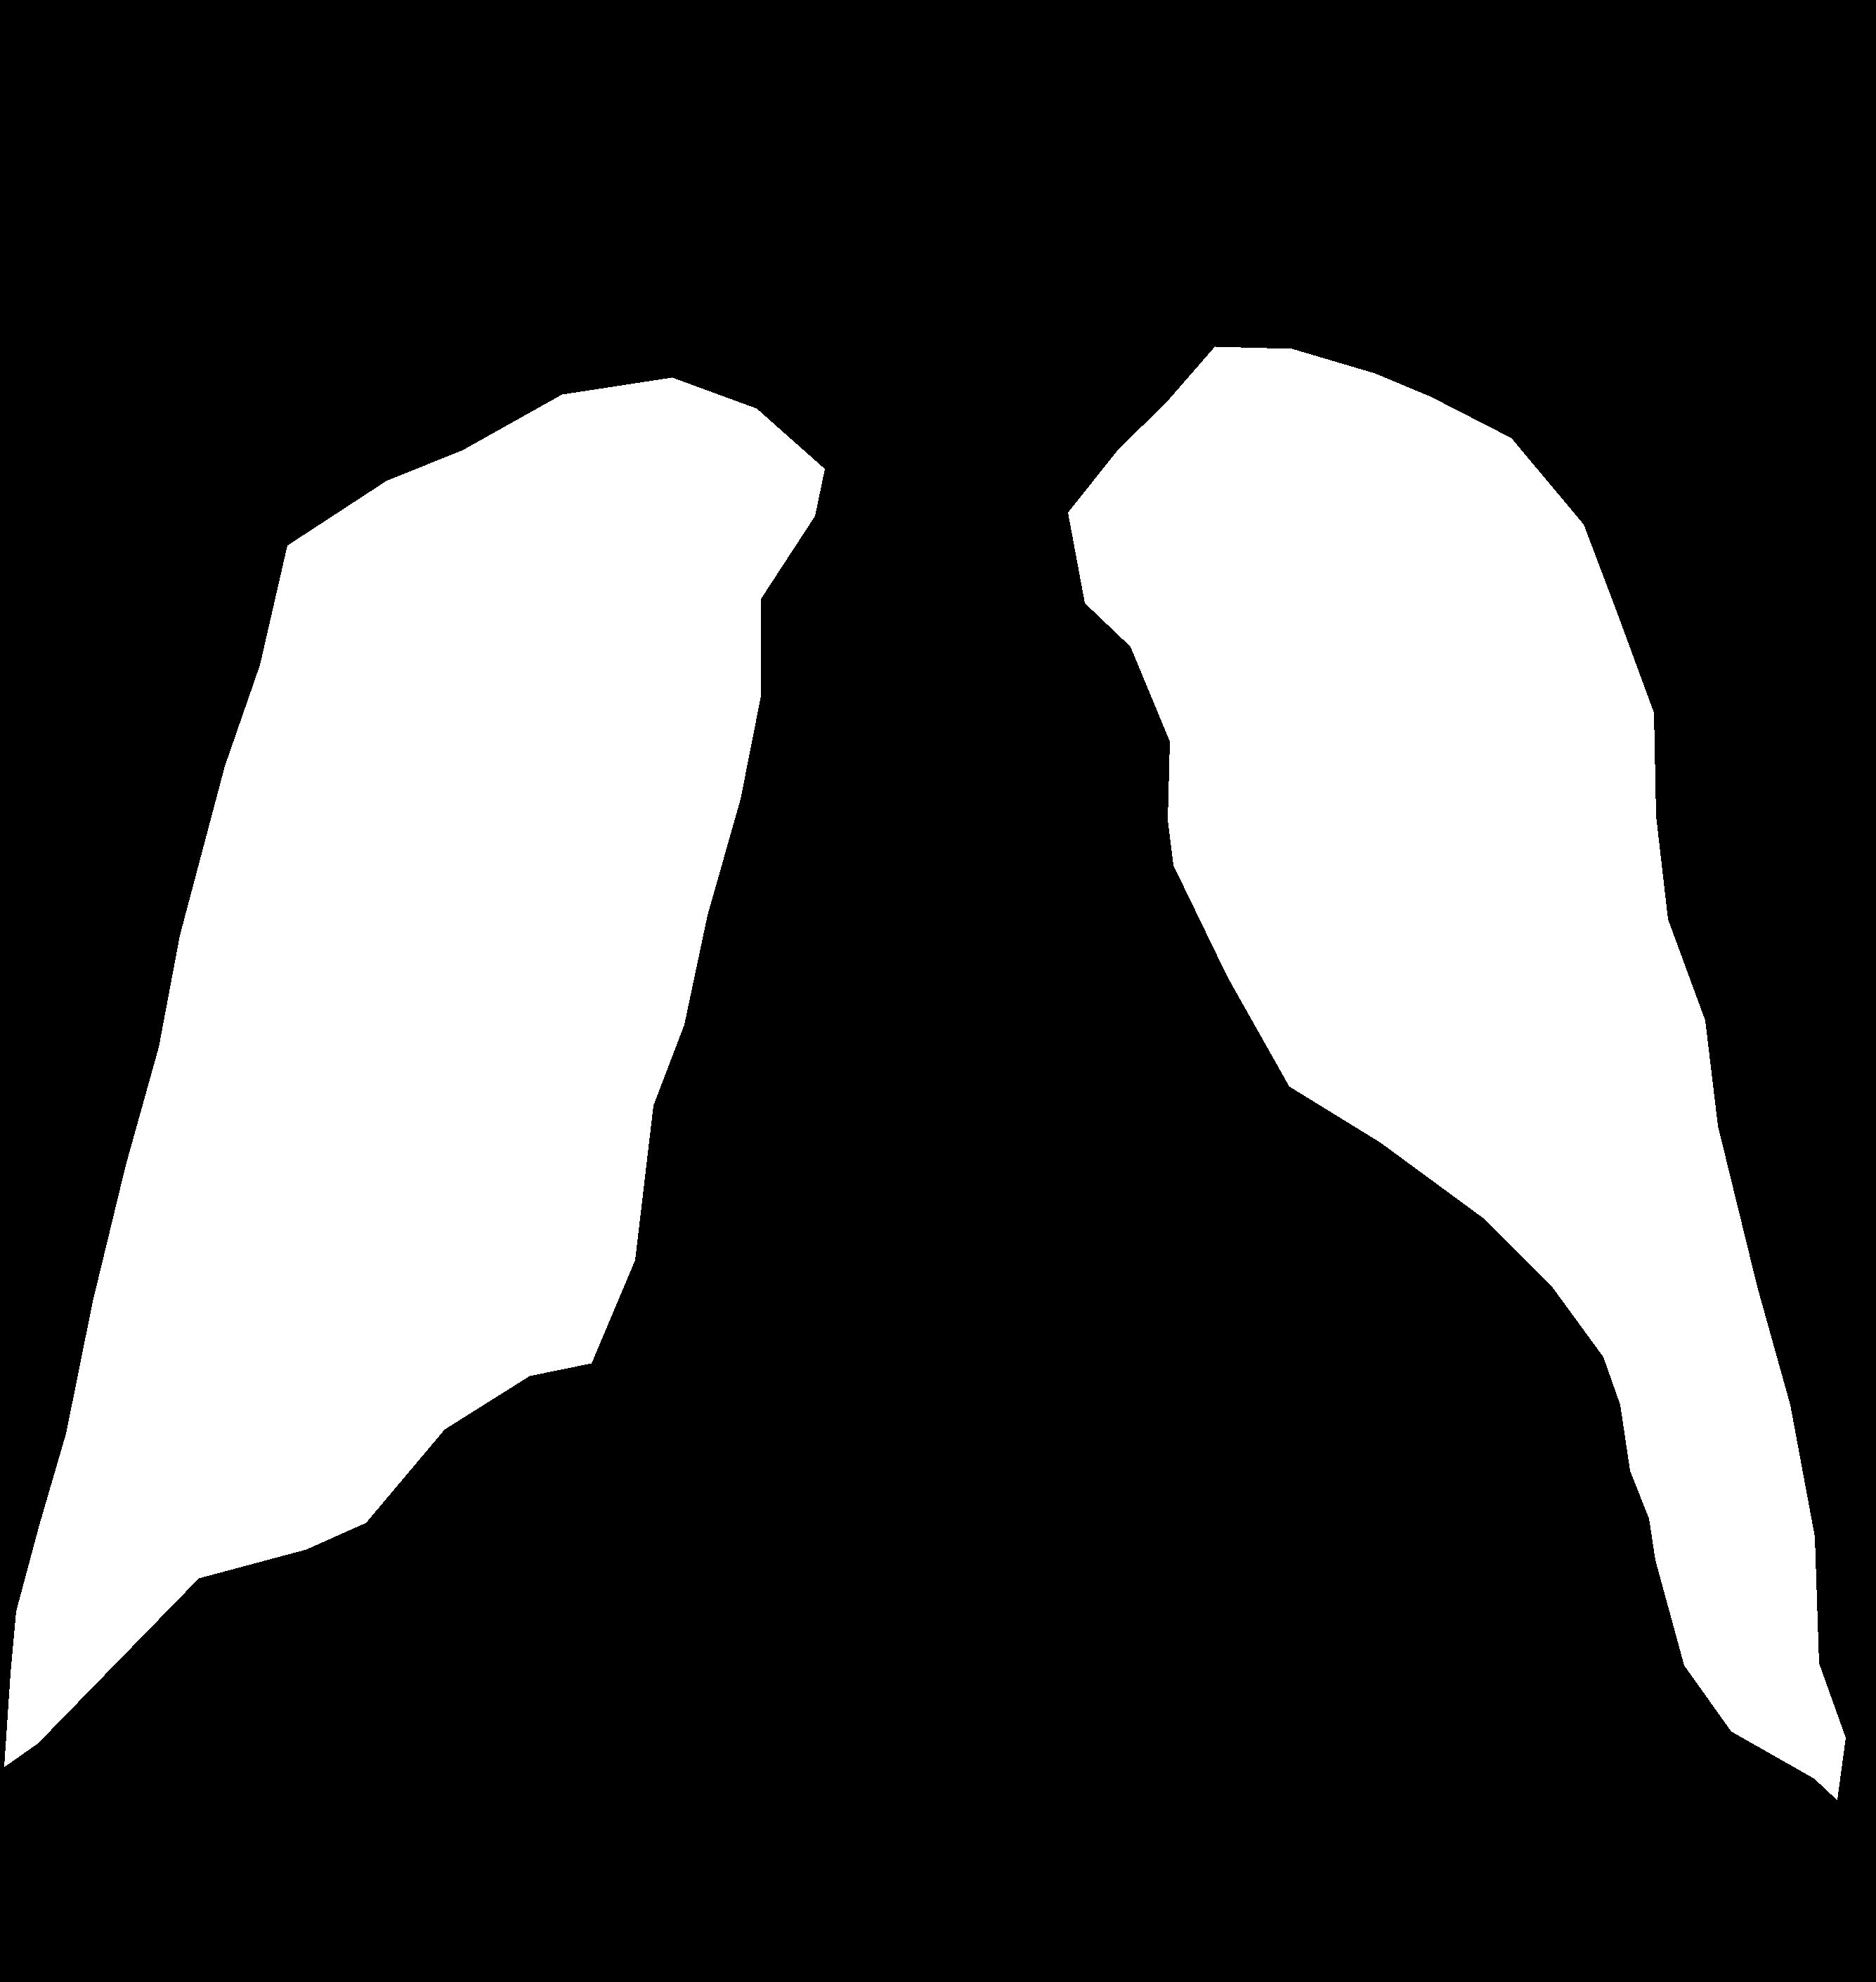heart: (603, 864, 1585, 1679)
left_lung: (4, 377, 823, 1767)
right_lung: (1068, 346, 1844, 1799)
